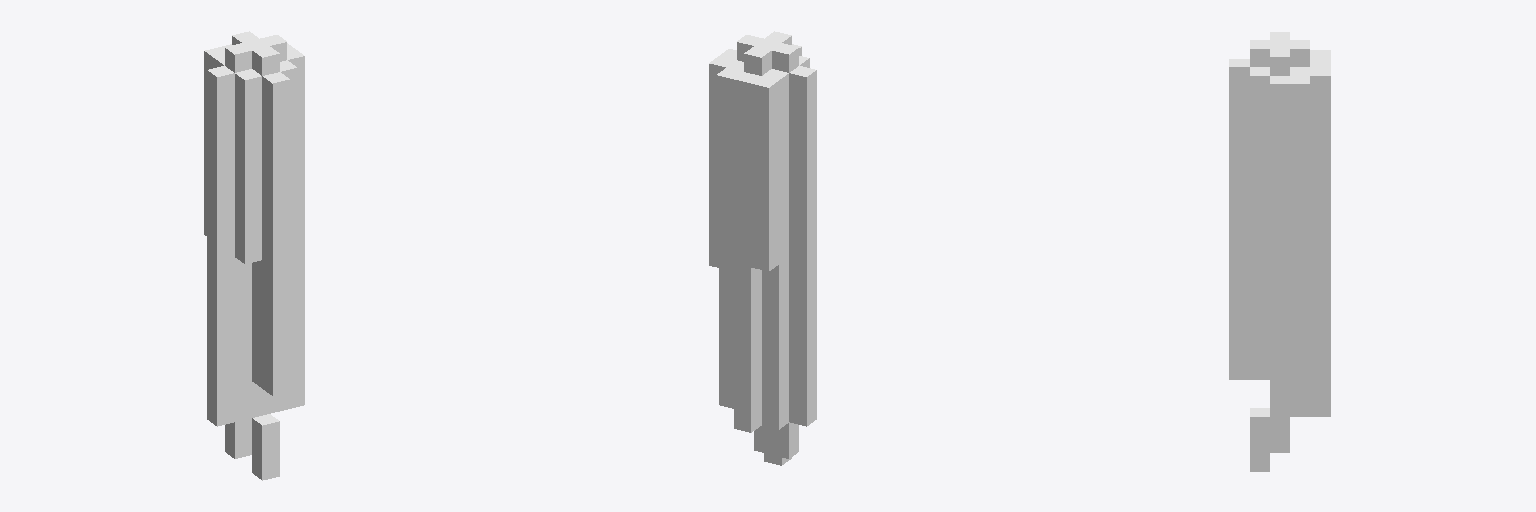
File: pers-3.obj
The picture shows the model from 3 angles: view 1: azimuth 30°, elevation 25°; view 2: azimuth 150°, elevation 25°; view 3: azimuth 270°, elevation 25°; orthographic projection.
Parts seen in each view (by area): view 1: object 1; view 2: object 1; view 3: object 1.
Boxes of the visible parts, x1=… form: object 1: x1=204, y1=31, x2=304, y2=480; object 1: x1=709, y1=31, x2=816, y2=465; object 1: x1=1229, y1=32, x2=1330, y2=471.
Size of the model in its own units: 0.5 by 2.3 by 0.5.